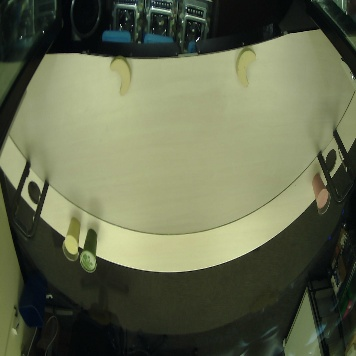full_cup: (311, 173, 331, 215), (80, 228, 98, 274), (62, 217, 80, 263)
puck: (109, 55, 132, 96), (235, 48, 257, 87)
